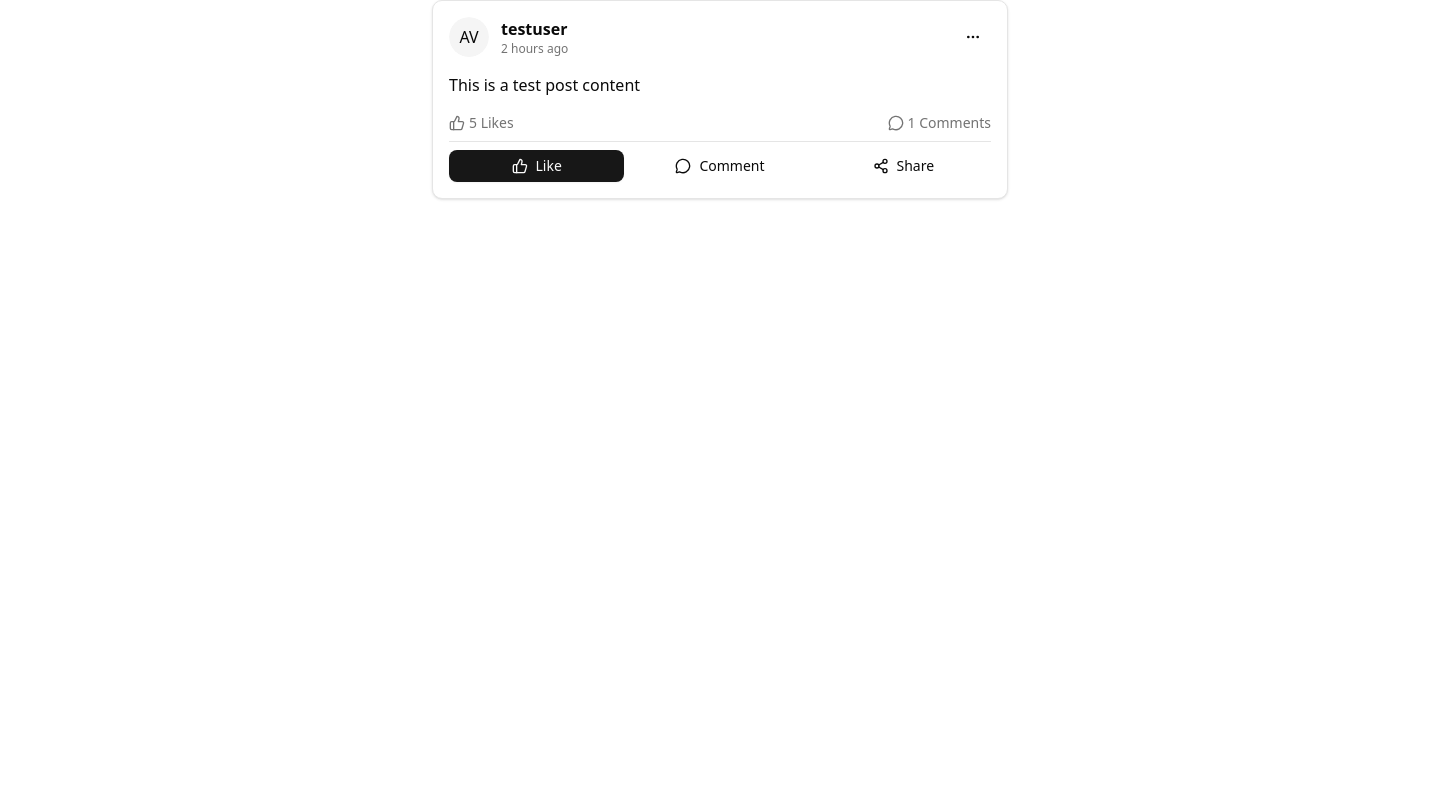
Test: Post Component › displays loading state when deleting
The image size is (1440, 810).
What coordinates should you click on to do the following:
click the button named "More Options"
I would click on:
 (973, 37)
Its box is x1=955 y1=19 x2=991 y2=55.
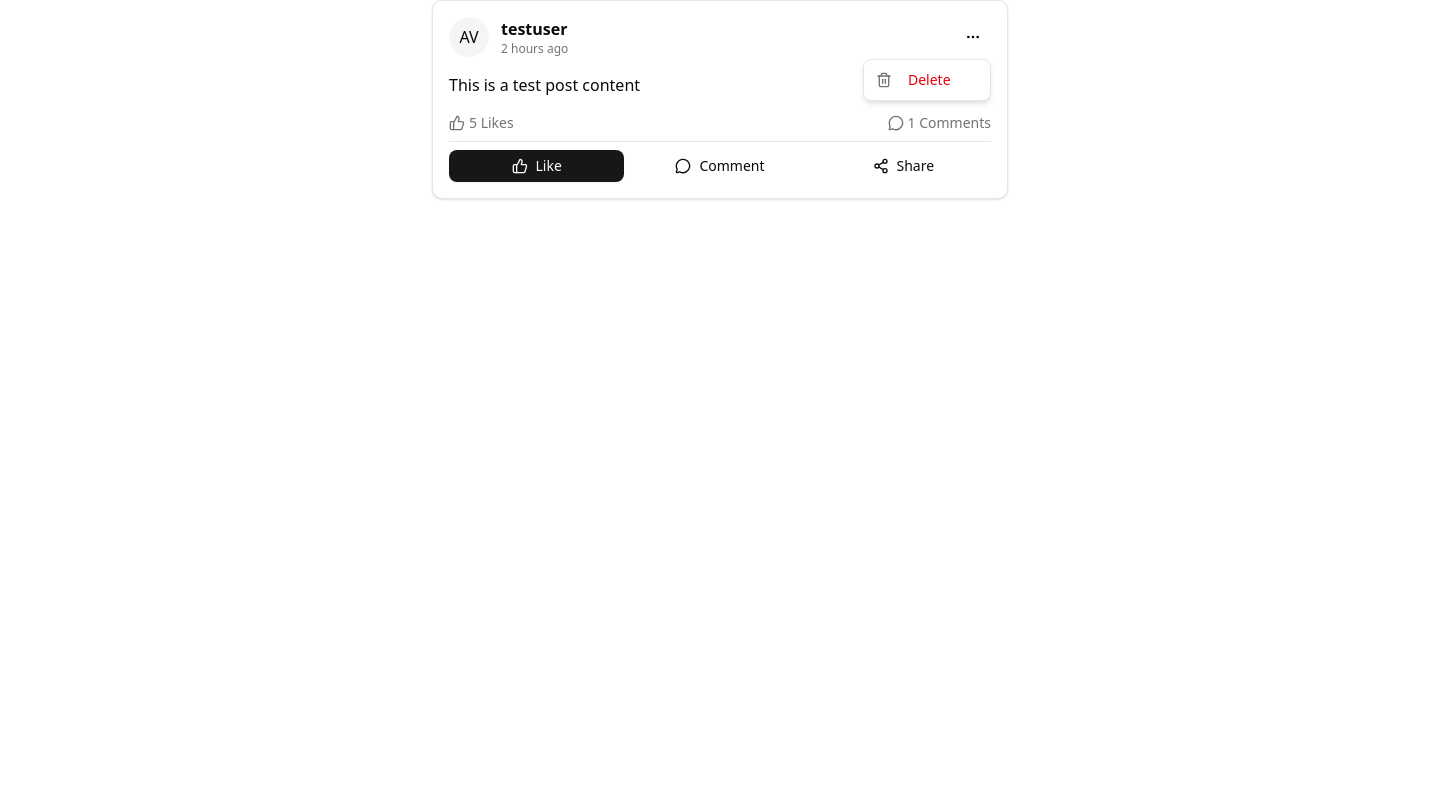
What coordinates should you click on to do the following:
click the menu item with aria-label "Delete action"
I would click on:
 (913, 80)
Its box is x1=876 y1=70 x2=951 y2=89.
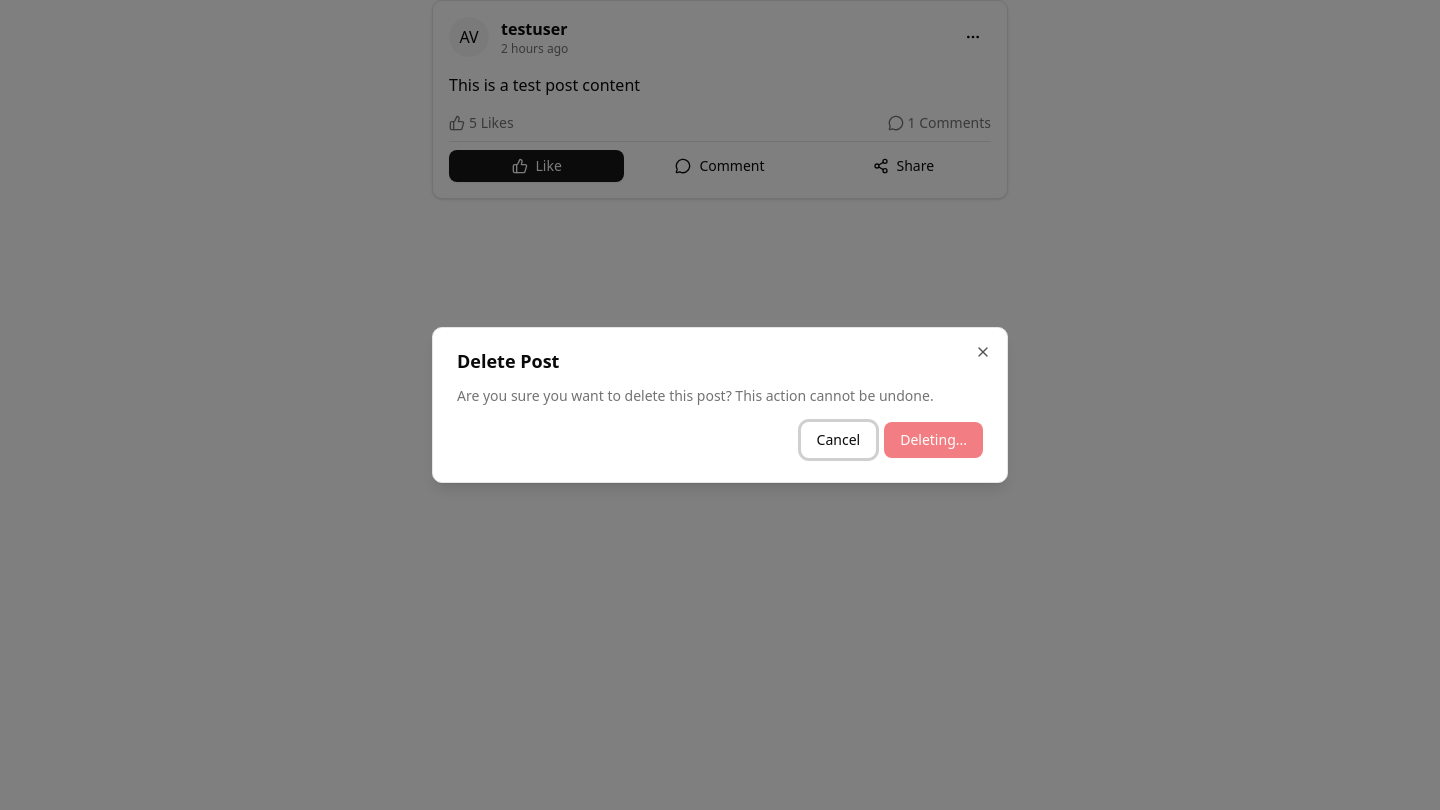
Result: the text "Are you sure you want to delete this post? This action cannot be undone." is shown at x1=457 y1=386 x2=983 y2=406
Result: the button "Deleting..." is disabled at x1=884 y1=422 x2=983 y2=458
Result: the button "Deleting..." is shown at x1=884 y1=422 x2=983 y2=458
